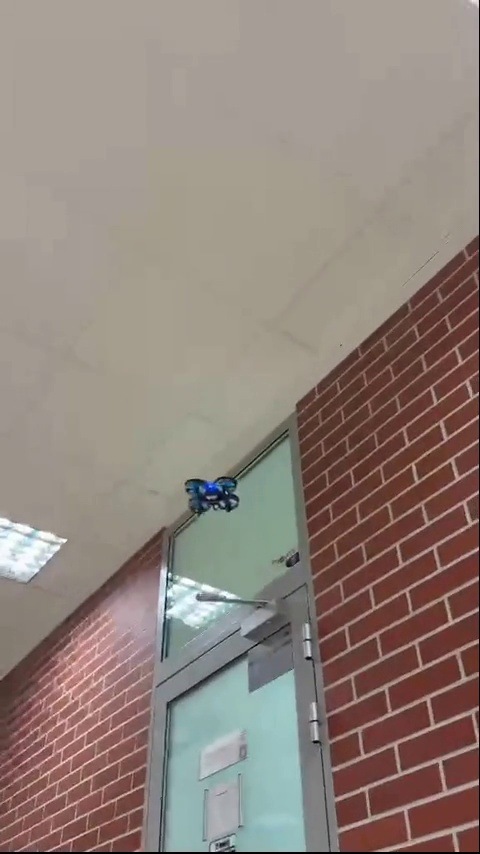drone: (183, 473, 234, 517)
